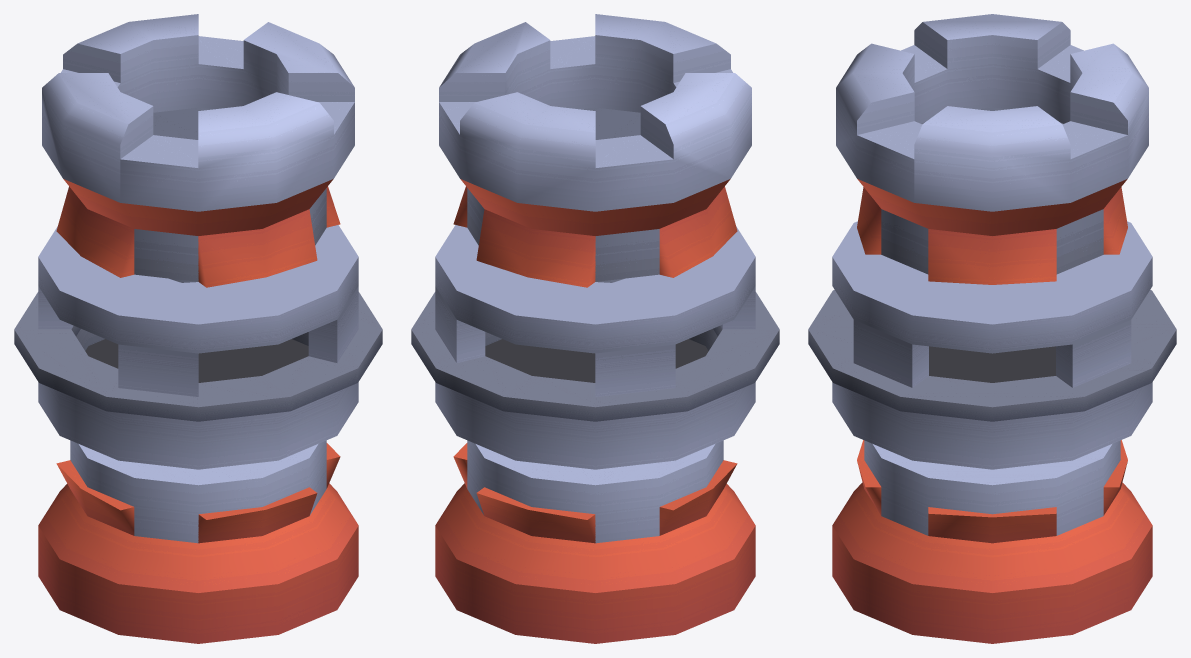
The model's file is ballista_2.glb.
The picture shows the model from 3 angles, left to right: view 1: azimuth 30°, elevation 25°; view 2: azimuth 150°, elevation 25°; view 3: azimuth 270°, elevation 25°; orthographic projection.
Parts seen in each view (by area): view 1: ballista_2; view 2: ballista_2; view 3: ballista_2.
Part boxes in pixels (x1,y1,x2,y2): ballista_2: (14, 14, 382, 643); ballista_2: (411, 14, 779, 643); ballista_2: (808, 14, 1176, 643).
Bounding box in the file's own units: 1.15 × 1.73 × 1.15.
3 materials, 3 textured.
